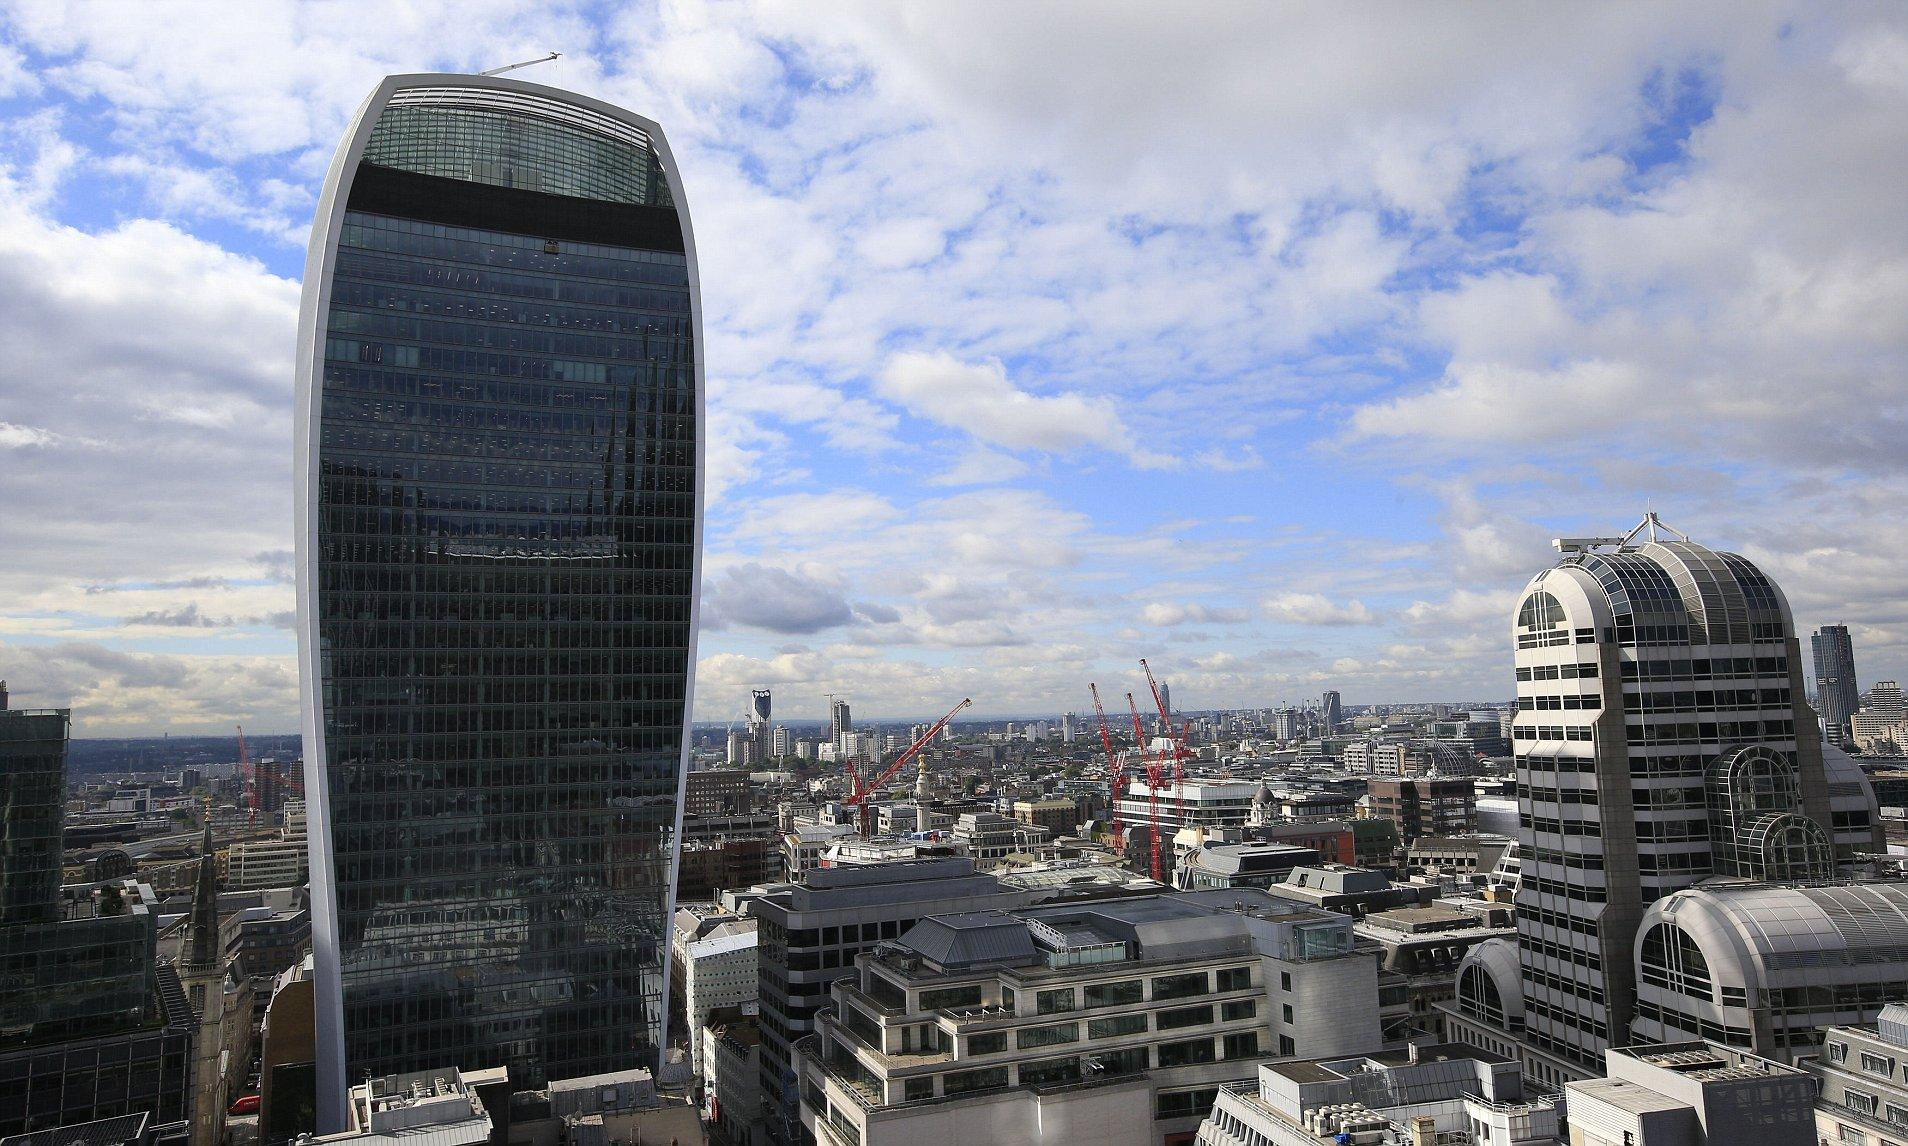Walkie talkie: (279, 55, 720, 1081)
